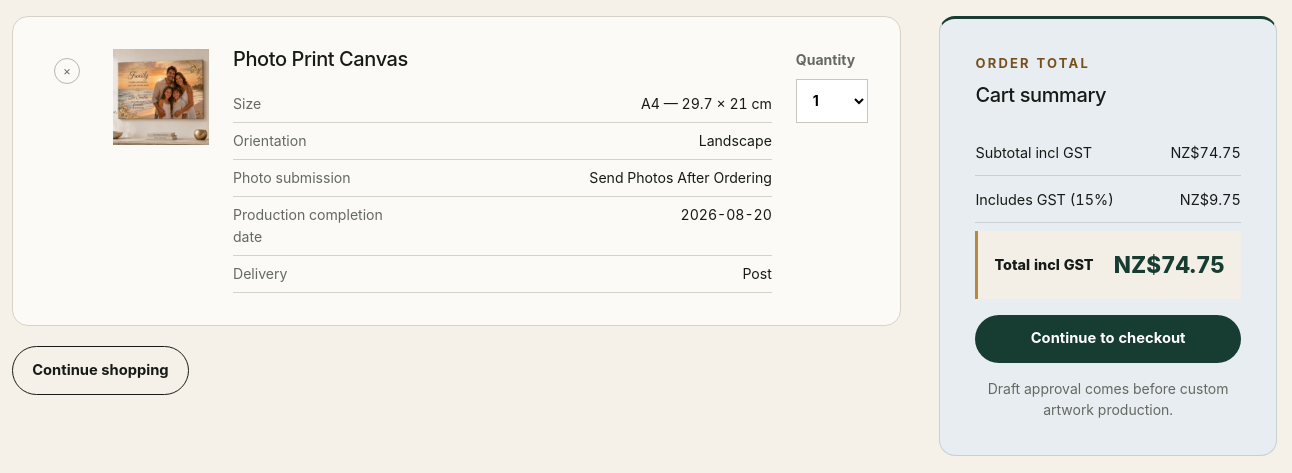
CartView › keeps a successful removal when analytics throws
Step 1. Click the button named "Remove Photo Print Canvas" → (67, 71), box 45,49 -> 89,93
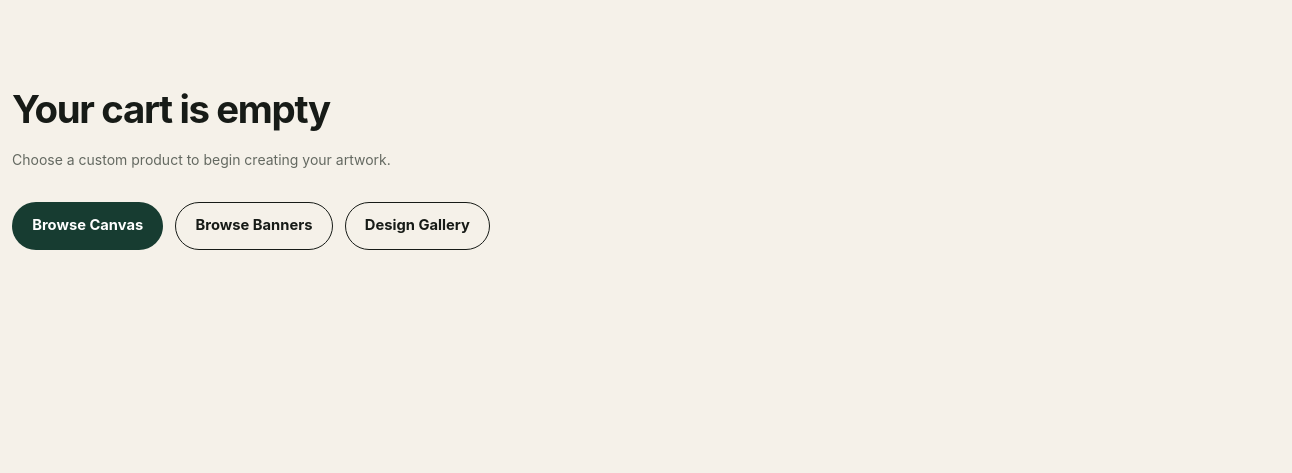
Result: the heading "Your cart is empty" is shown at 12,86 -> 330,132
